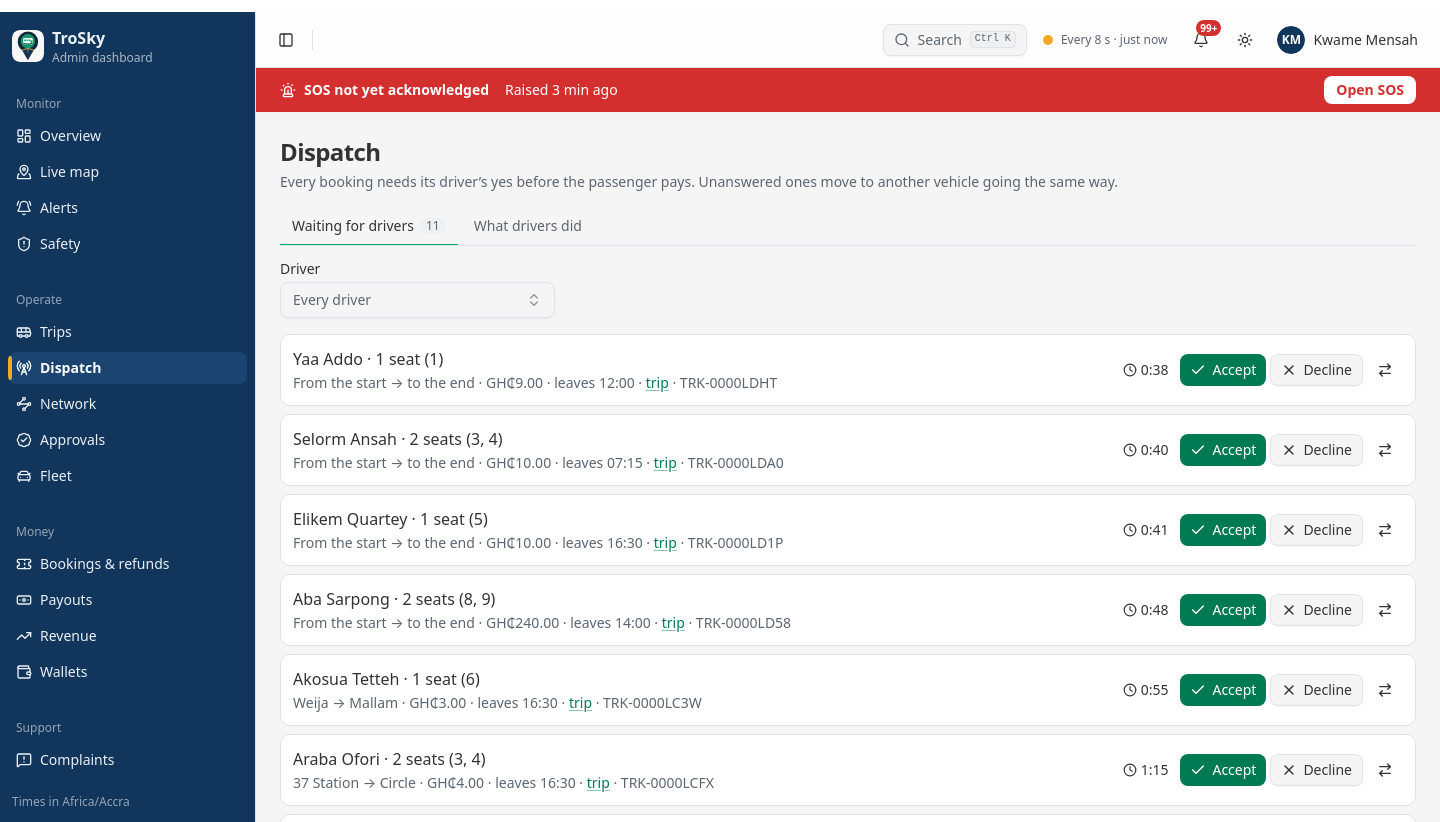
Scenario: Bookings waiting for drivers › can be accepted for the driver
Click the button "Accept" in the row of "Yaa Addo" at (1223, 370), box [1180, 354, 1266, 386]
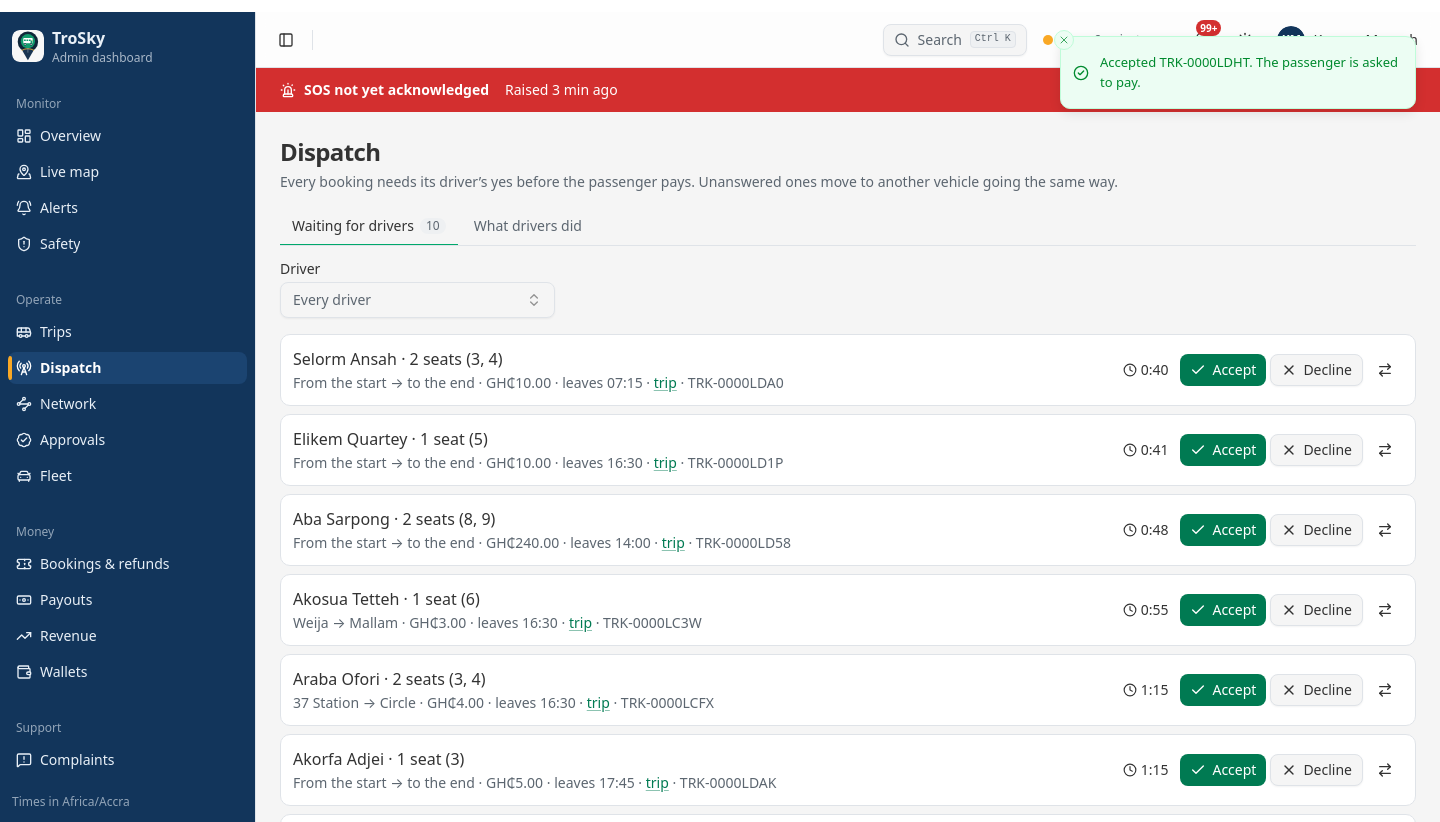
Now the text "The passenger is asked to pay" is shown, box [1100, 53, 1398, 90]
